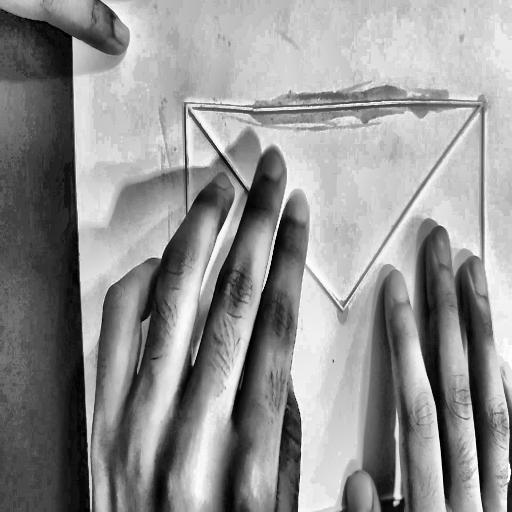envelop: (176, 91, 500, 512)
